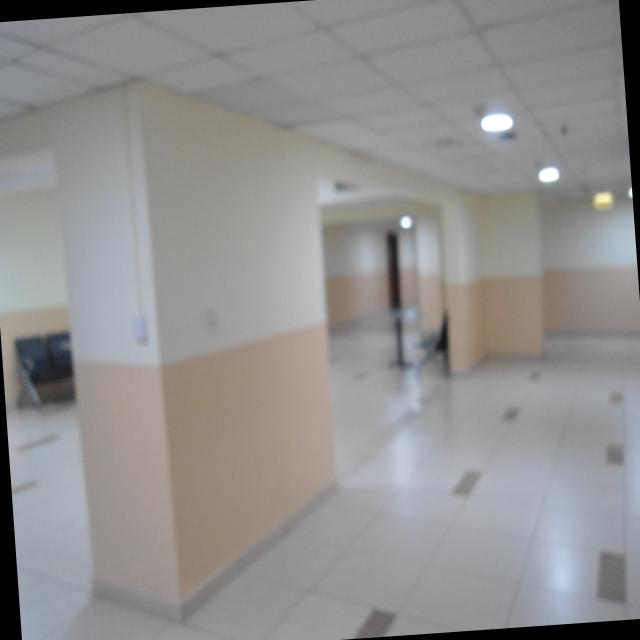bench: (6, 313, 87, 411), (412, 284, 460, 378)
door: (378, 220, 411, 330)
table: (376, 298, 428, 388)
wall: (142, 67, 348, 617), (52, 110, 182, 610), (442, 170, 552, 370)
